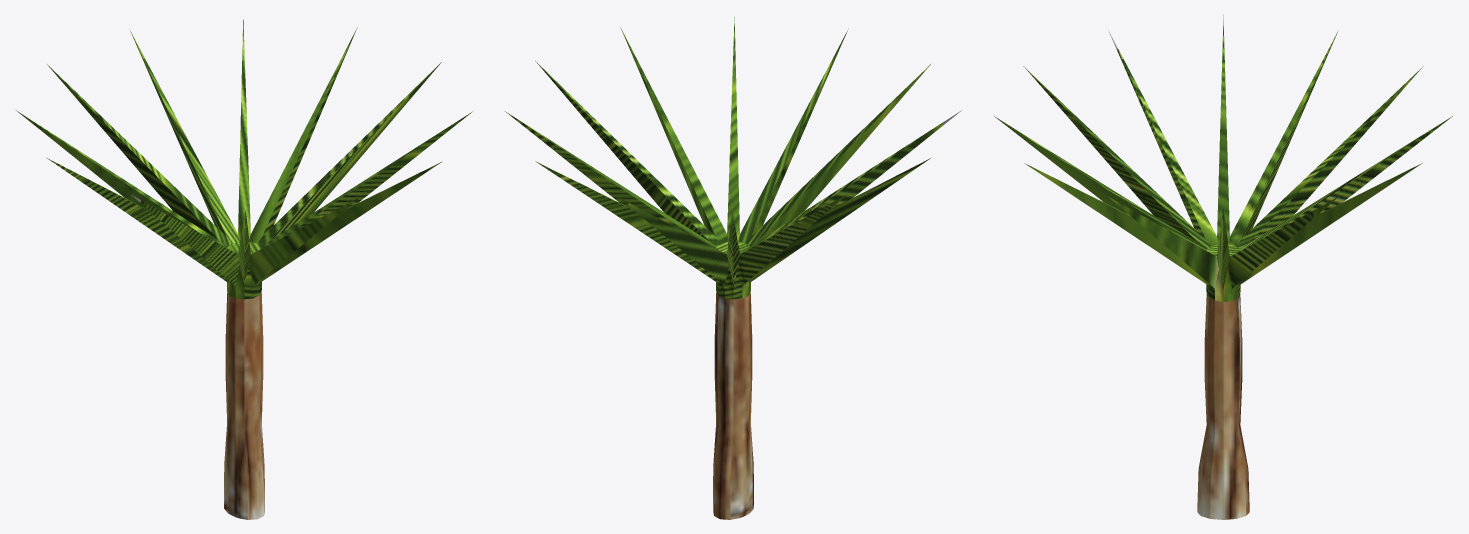
The model's file is Marvin_Clarke_Palm Trees.fbx.
3 renders of one model, left to right at view 1: azimuth 30°, elevation 25°; view 2: azimuth 150°, elevation 25°; view 3: azimuth 270°, elevation 25°, orthographic.
Parts seen in each view (by area): view 1: pCylinder1; view 2: pCylinder1; view 3: pCylinder1.
Boxes of the visible parts, x1,y1,x2,y2 form: pCylinder1: (16, 19, 472, 519); pCylinder1: (505, 17, 961, 519); pCylinder1: (993, 14, 1452, 519).
Size of the model in its own units: 19.66 by 18.92 by 19.77.
